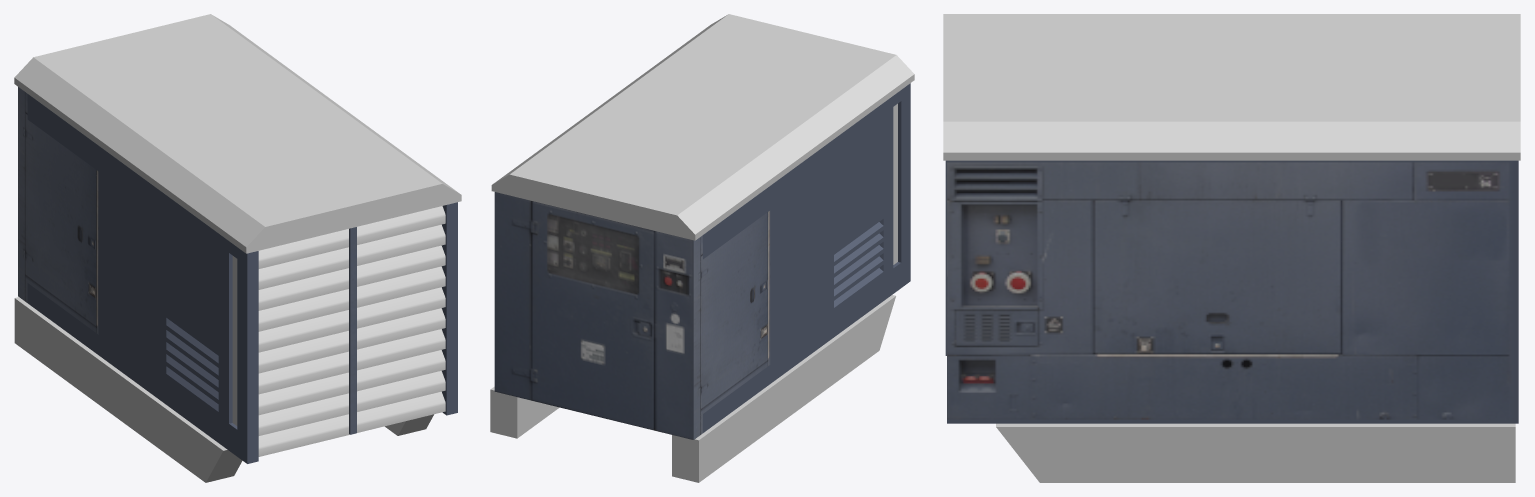
Rendered from KB3D_NTT_RooftopPart_E.fbx.
3 renders of one model, left to right at view 1: azimuth 30°, elevation 25°; view 2: azimuth 150°, elevation 25°; view 3: azimuth 270°, elevation 25°, orthographic. The views are drawn at different scales.
Parts seen in each view (by area): view 1: KB3D_NTT_RooftopPart_E_Main; view 2: KB3D_NTT_RooftopPart_E_Main; view 3: KB3D_NTT_RooftopPart_E_Main.
Boxes of the visible parts, left/top/right/bottom form: KB3D_NTT_RooftopPart_E_Main: left=14, top=14, right=461, bottom=482; KB3D_NTT_RooftopPart_E_Main: left=490, top=14, right=914, bottom=482; KB3D_NTT_RooftopPart_E_Main: left=943, top=14, right=1520, bottom=482.
Bounding box in the file's own units: 161 × 194 × 293.
